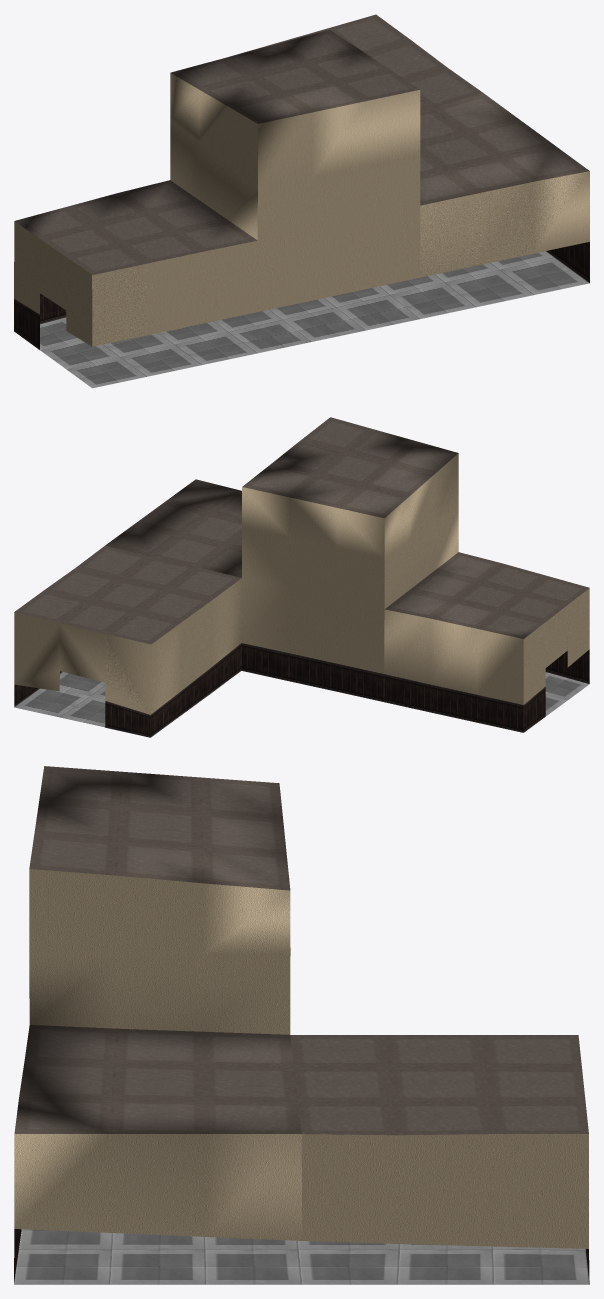
File: office_L_room.fbx
3 renders of one model, top to bottom at view 1: azimuth 30°, elevation 25°; view 2: azimuth 150°, elevation 25°; view 3: azimuth 270°, elevation 25°, orthographic. The views are drawn at different scales.
Parts seen in each view (by area): view 1: wall.001, floor; view 2: wall.001, floor; view 3: wall.001, floor.
Boxes of the visible parts, x1,y1,x2,y2 form: wall.001: (14,14,589,349); floor: (40,251,589,388); wall.001: (14,417,589,737); floor: (14,672,589,736); wall.001: (14,766,589,1282); floor: (14,1229,589,1284).
Bounding box in the file's own units: 4111 × 1878 × 3172.
